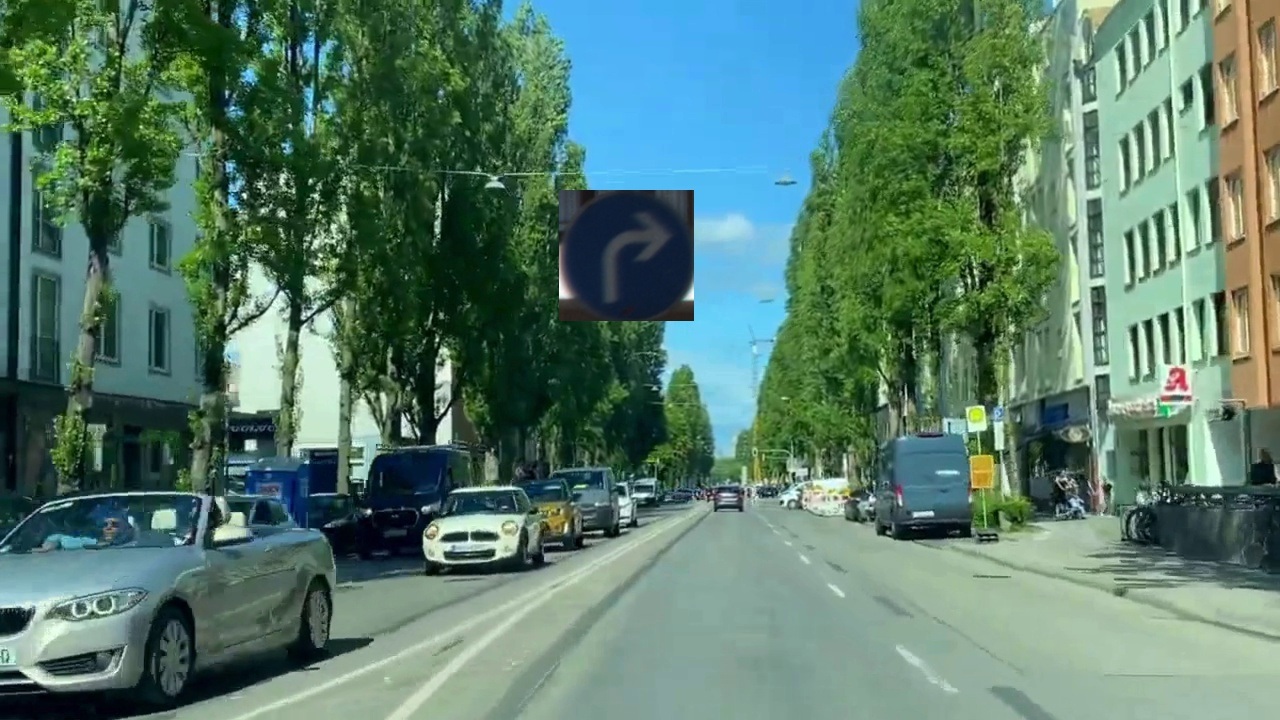Turn right: (559, 190, 694, 321)
